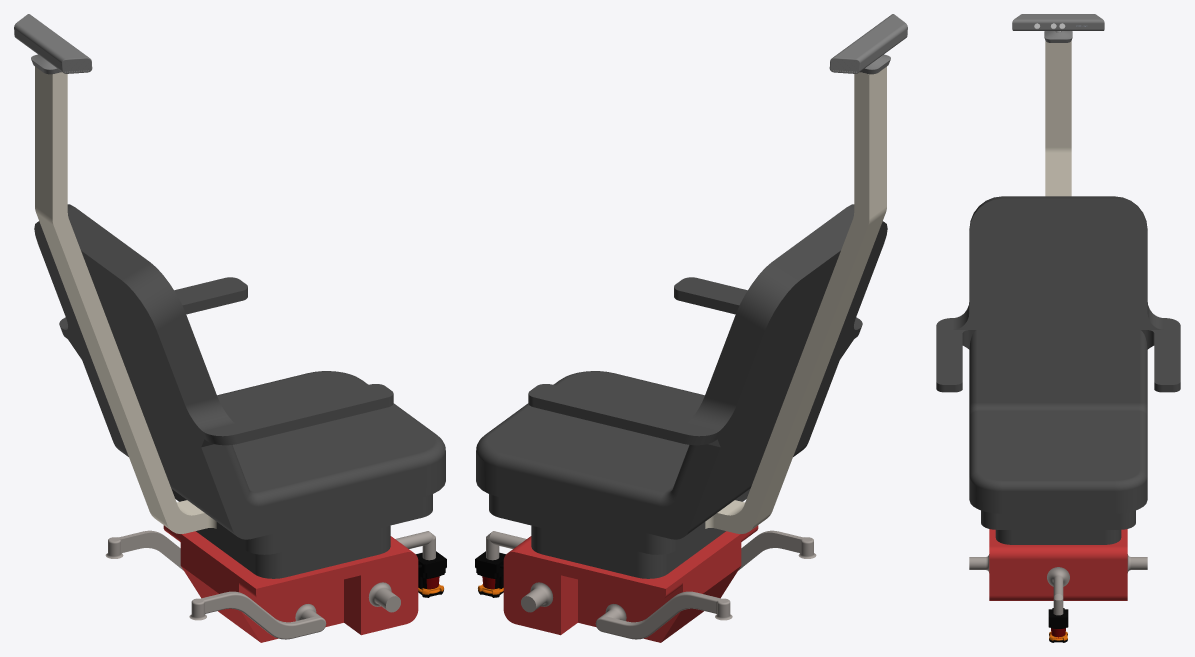
Rendered from wheelchair_base_seat.dae.
The picture shows the model from 3 angles, left to right: view 1: azimuth 30°, elevation 25°; view 2: azimuth 150°, elevation 25°; view 3: azimuth 270°, elevation 25°; orthographic projection. The views are drawn at different scales.
Parts seen in each view (by area): view 1: _3DGeom_197, _3DGeom_196, _3DGeom_101, _3DGeom_66, _3DGeom_941, _3DGeom_103, _3DGeom_33, _3DGeom_618; view 2: _3DGeom_197, _3DGeom_196, _3DGeom_101, _3DGeom_33, _3DGeom_941, _3DGeom_103, _3DGeom_66, _3DGeom_618; view 3: _3DGeom_197, _3DGeom_101, _3DGeom_196, _3DGeom_941, _3DGeom_103, _3DGeom_618.
Part boxes in pixels (box(x1,y1,x2,y2)): _3DGeom_197: box(34, 204, 445, 578); _3DGeom_196: box(35, 66, 216, 533); _3DGeom_101: box(163, 525, 418, 642); _3DGeom_66: box(189, 591, 326, 639); _3DGeom_941: box(14, 14, 92, 73); _3DGeom_103: box(295, 531, 435, 620); _3DGeom_33: box(105, 530, 183, 570); _3DGeom_618: box(416, 551, 446, 597); _3DGeom_197: box(476, 204, 887, 578); _3DGeom_196: box(705, 66, 886, 533); _3DGeom_101: box(503, 525, 758, 642); _3DGeom_33: box(595, 591, 732, 639); _3DGeom_941: box(829, 14, 907, 73); _3DGeom_103: box(486, 531, 626, 620); _3DGeom_66: box(738, 530, 816, 570); _3DGeom_618: box(475, 551, 505, 597); _3DGeom_197: box(936, 196, 1180, 544); _3DGeom_101: box(989, 529, 1127, 600); _3DGeom_196: box(1045, 41, 1071, 196); _3DGeom_941: box(1012, 14, 1104, 32); _3DGeom_103: box(969, 554, 1147, 615); _3DGeom_618: box(1048, 608, 1068, 642).
Size of the model in its own units: 1.06 by 0.74 by 1.62.
